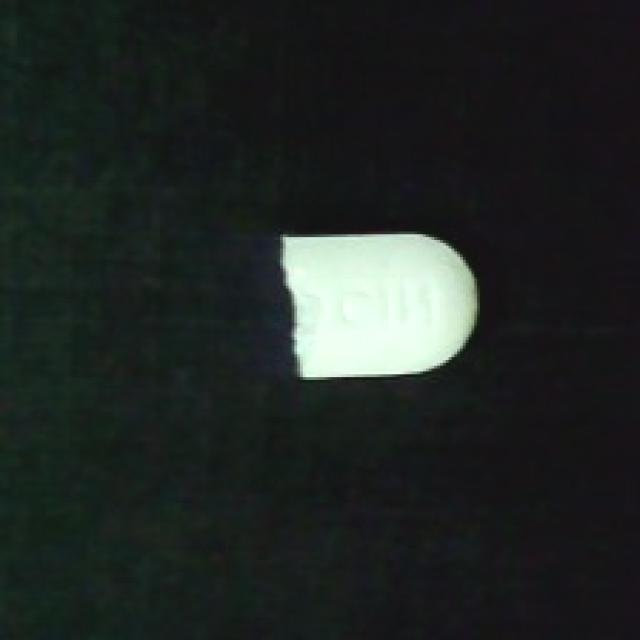defected: (269, 226, 483, 386)
